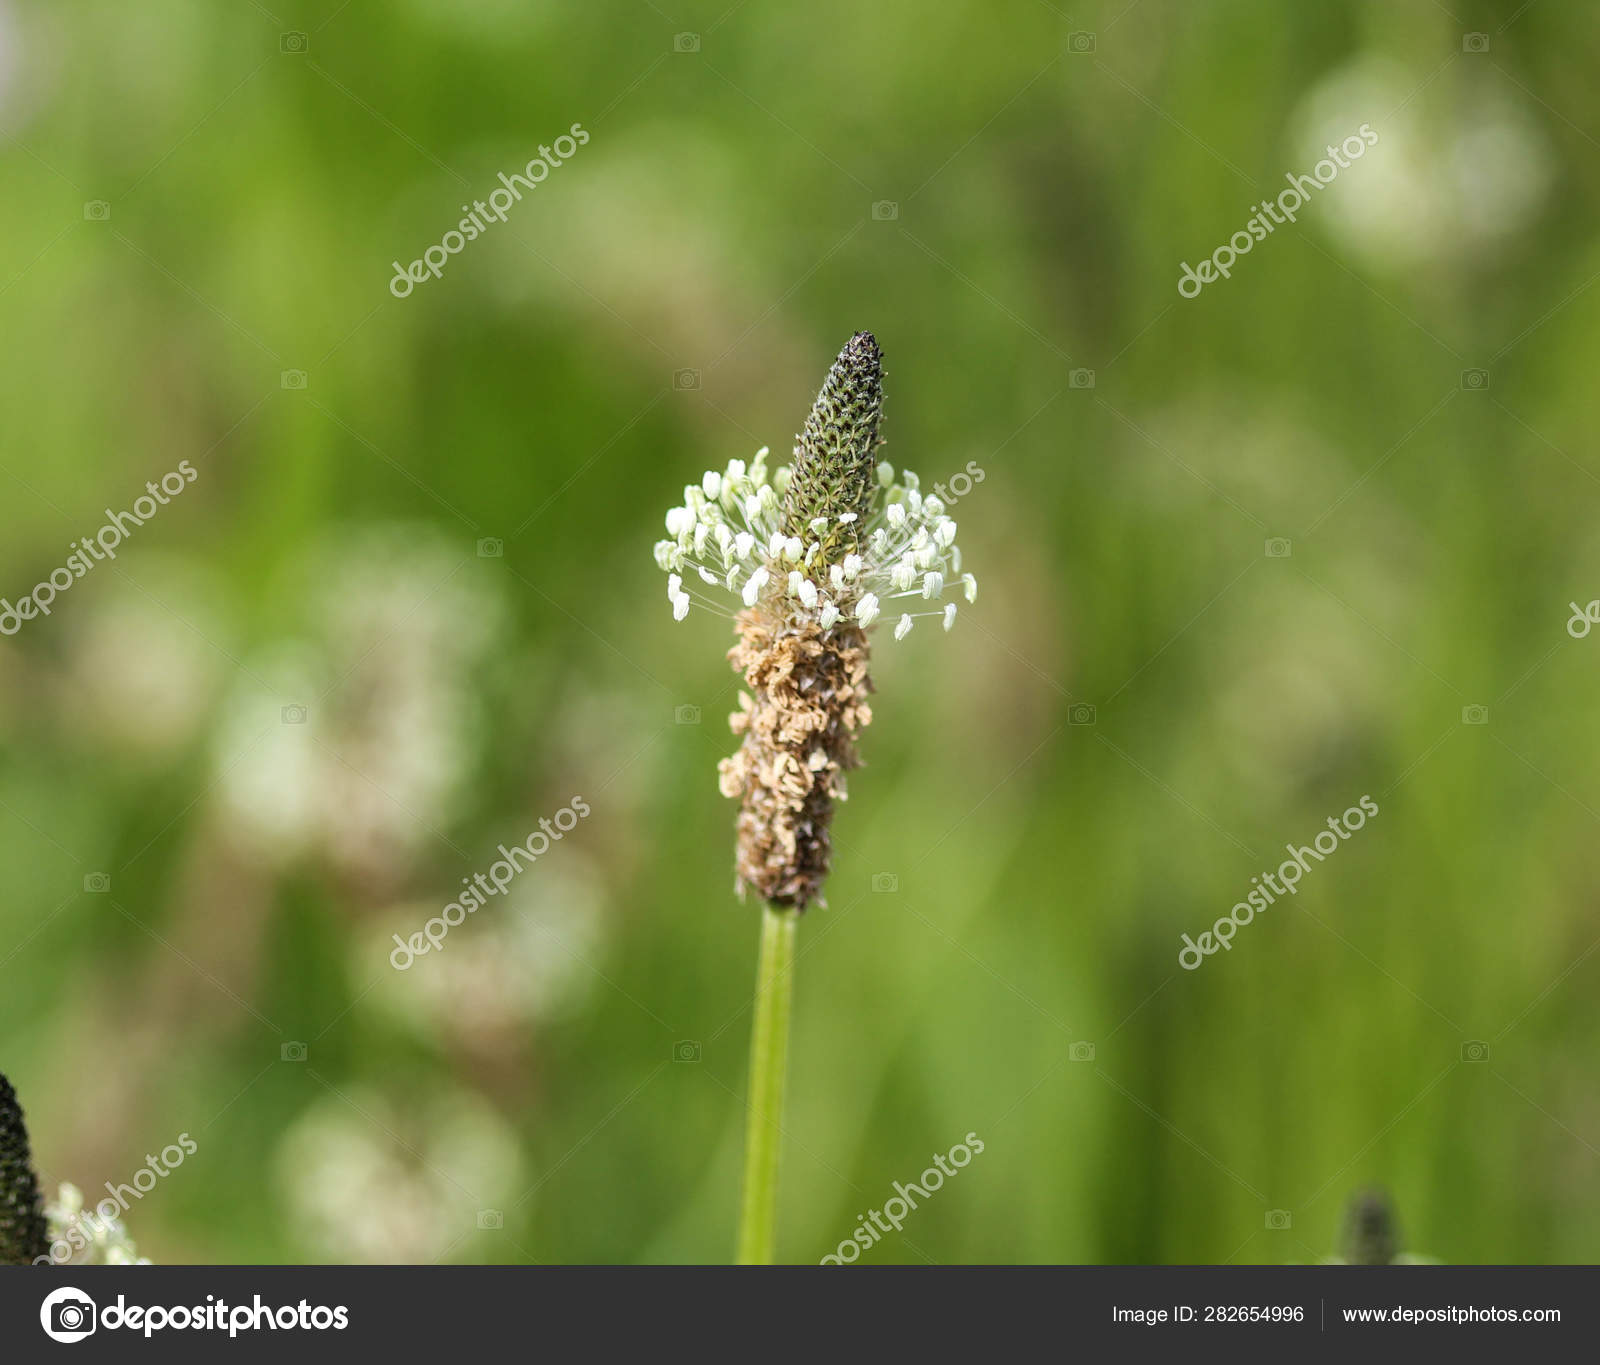buckhorn plantain: (610, 292, 964, 1226)
